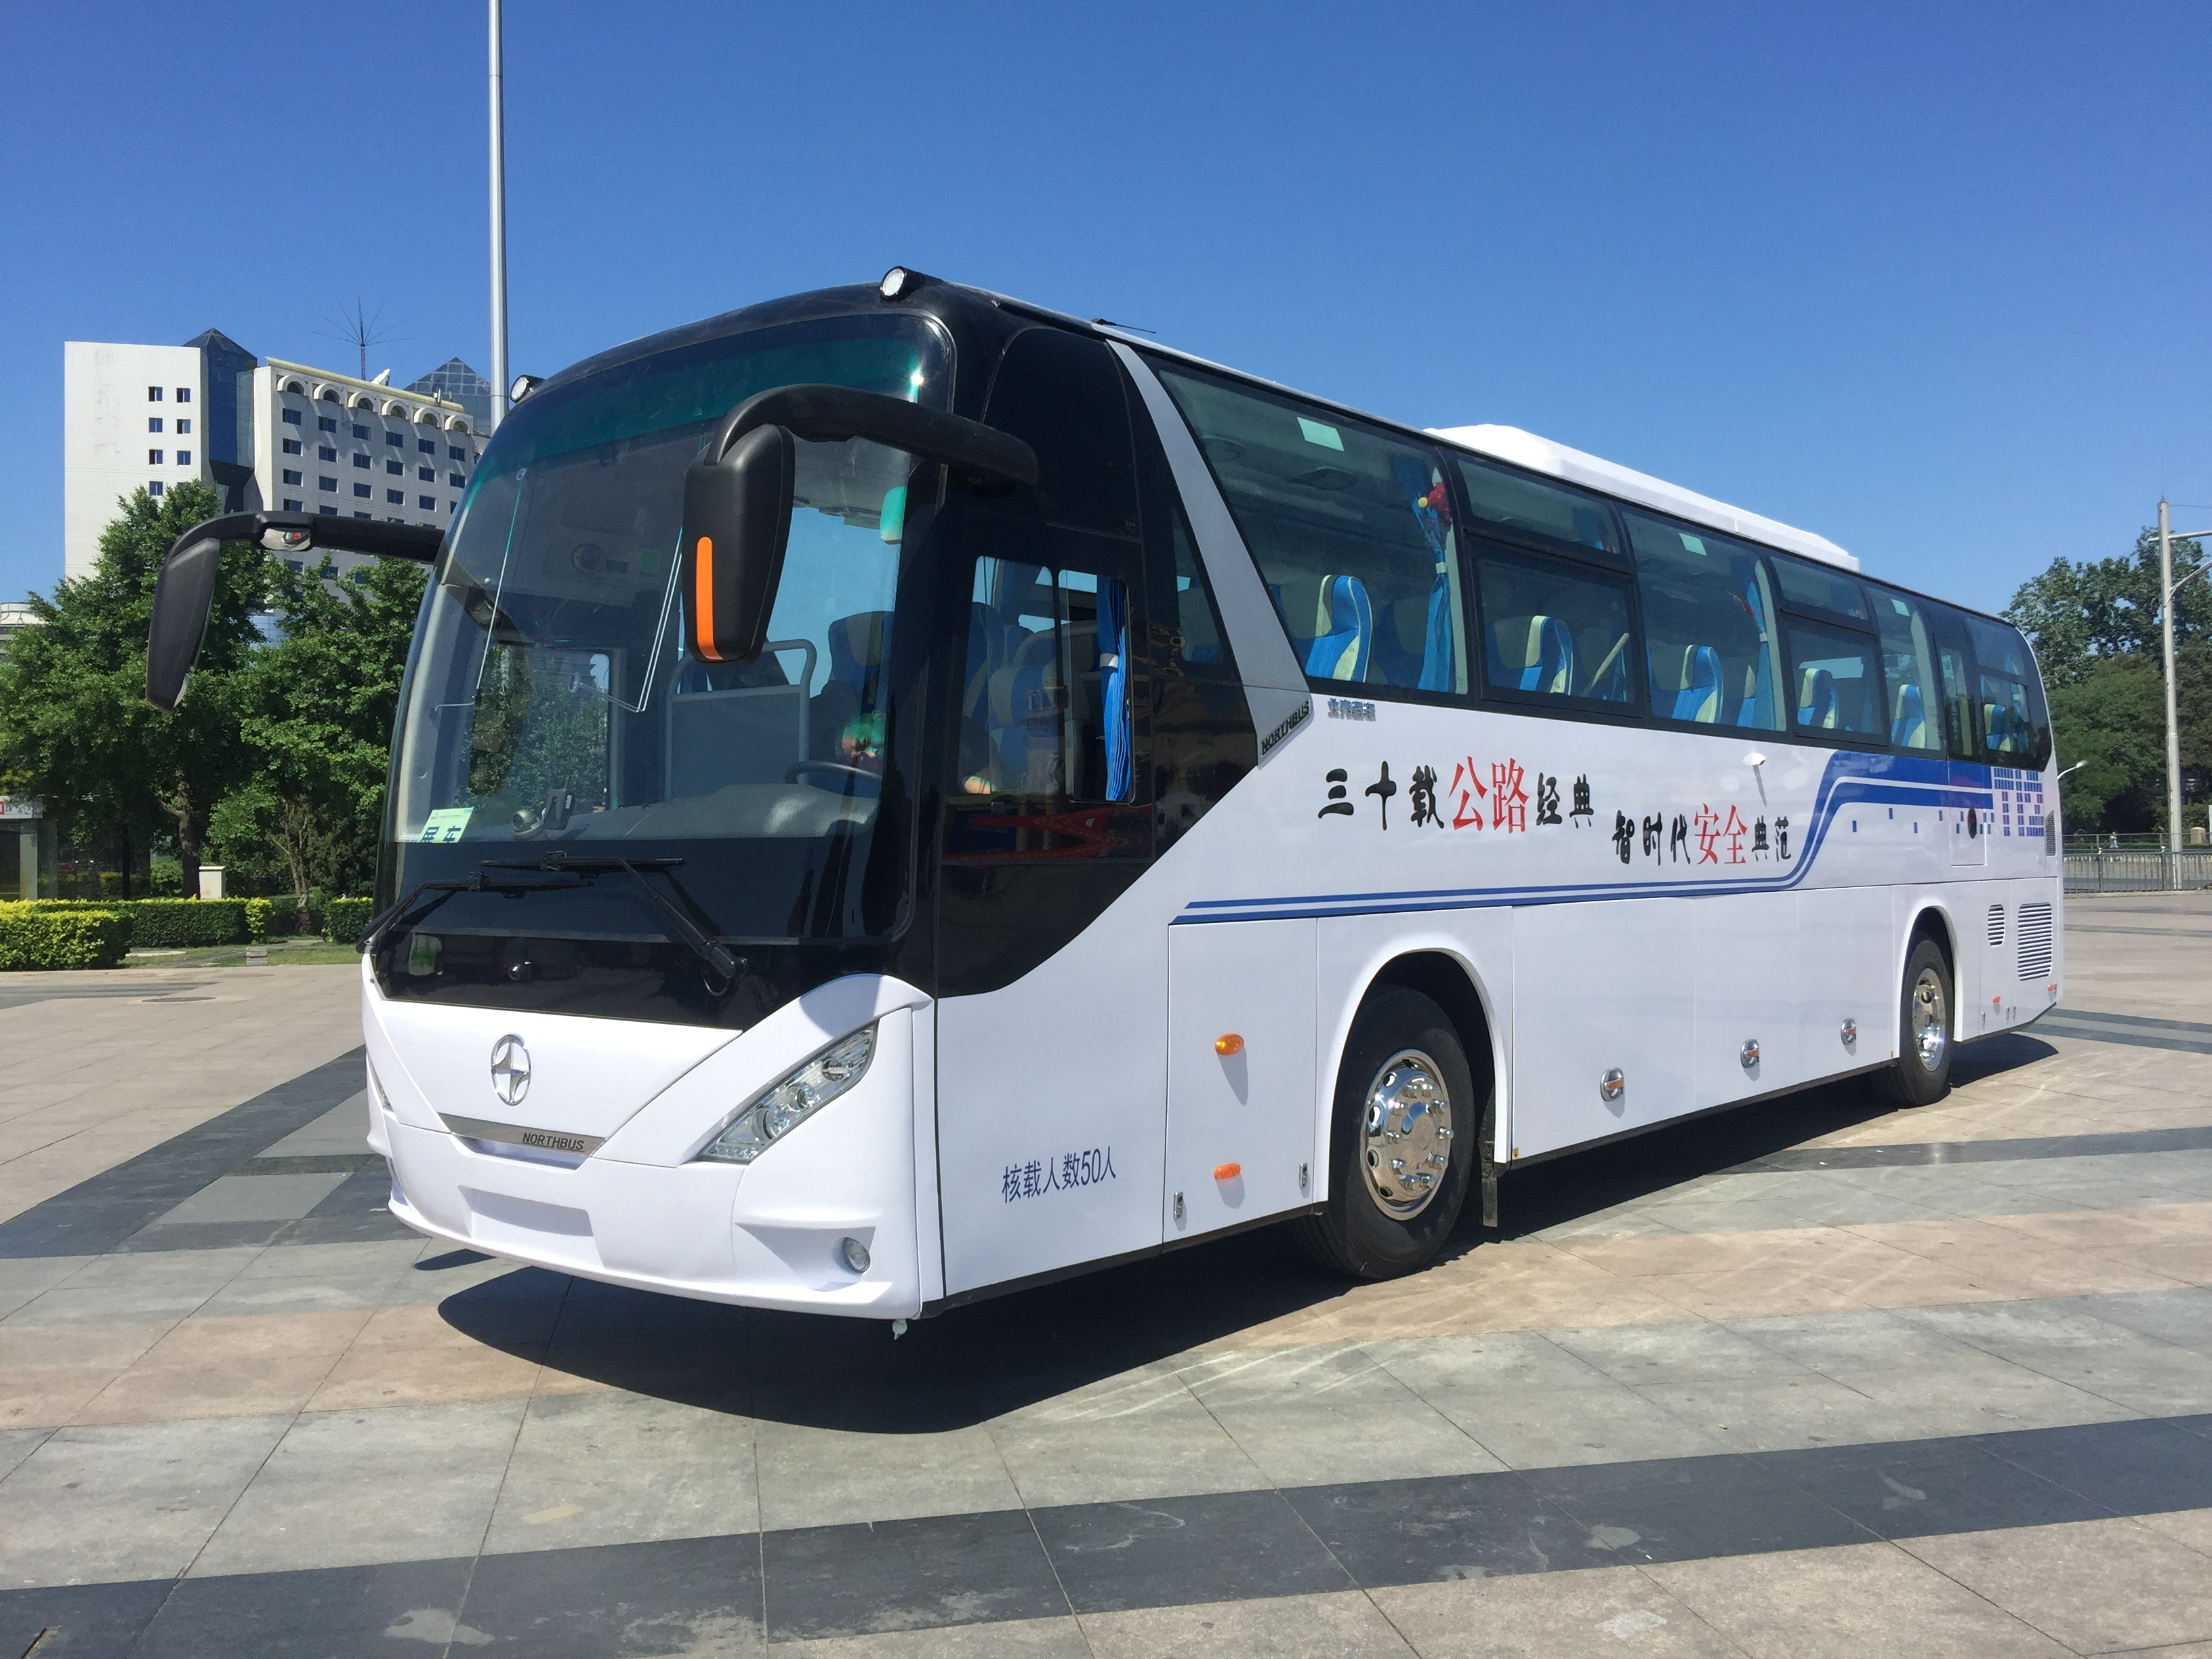bus: (279, 279, 2092, 1387)
